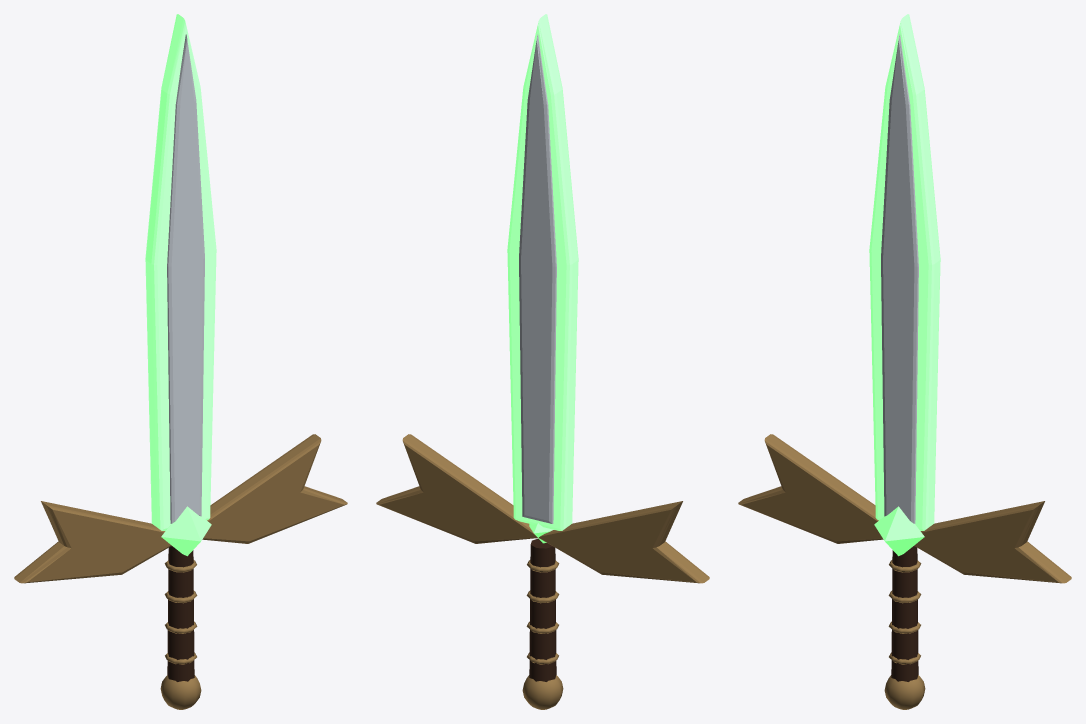
Rendered from sword_f3_3e63408a.glb.
3 views of the same model, side by side, from view 1: azimuth 30°, elevation 25°; view 2: azimuth 150°, elevation 25°; view 3: azimuth 330°, elevation 25° (orthographic).
Parts seen in each view (by area): view 1: m4_ow80_, m0_, m1_ow80_, m3_ow80_, m2_; view 2: m4_ow80_, m0_, m1_ow80_, m3_ow80_; view 3: m4_ow80_, m0_, m1_ow80_, m3_ow80_, m2_.
Part boxes in pixels (box(x1,y1,x2,y2)): m4_ow80_: box(14, 434, 347, 709); m0_: box(145, 14, 216, 530); m1_ow80_: box(167, 34, 204, 523); m3_ow80_: box(167, 546, 194, 681); m2_: box(161, 506, 211, 556); m4_ow80_: box(376, 434, 709, 709); m0_: box(507, 14, 578, 530); m1_ow80_: box(519, 34, 556, 523); m3_ow80_: box(529, 538, 556, 681); m4_ow80_: box(738, 434, 1071, 709); m0_: box(869, 14, 940, 530); m1_ow80_: box(881, 34, 918, 523); m3_ow80_: box(891, 546, 918, 681); m2_: box(874, 506, 924, 556).
Size of the model in its own units: 1.03 by 2.08 by 0.1633.
